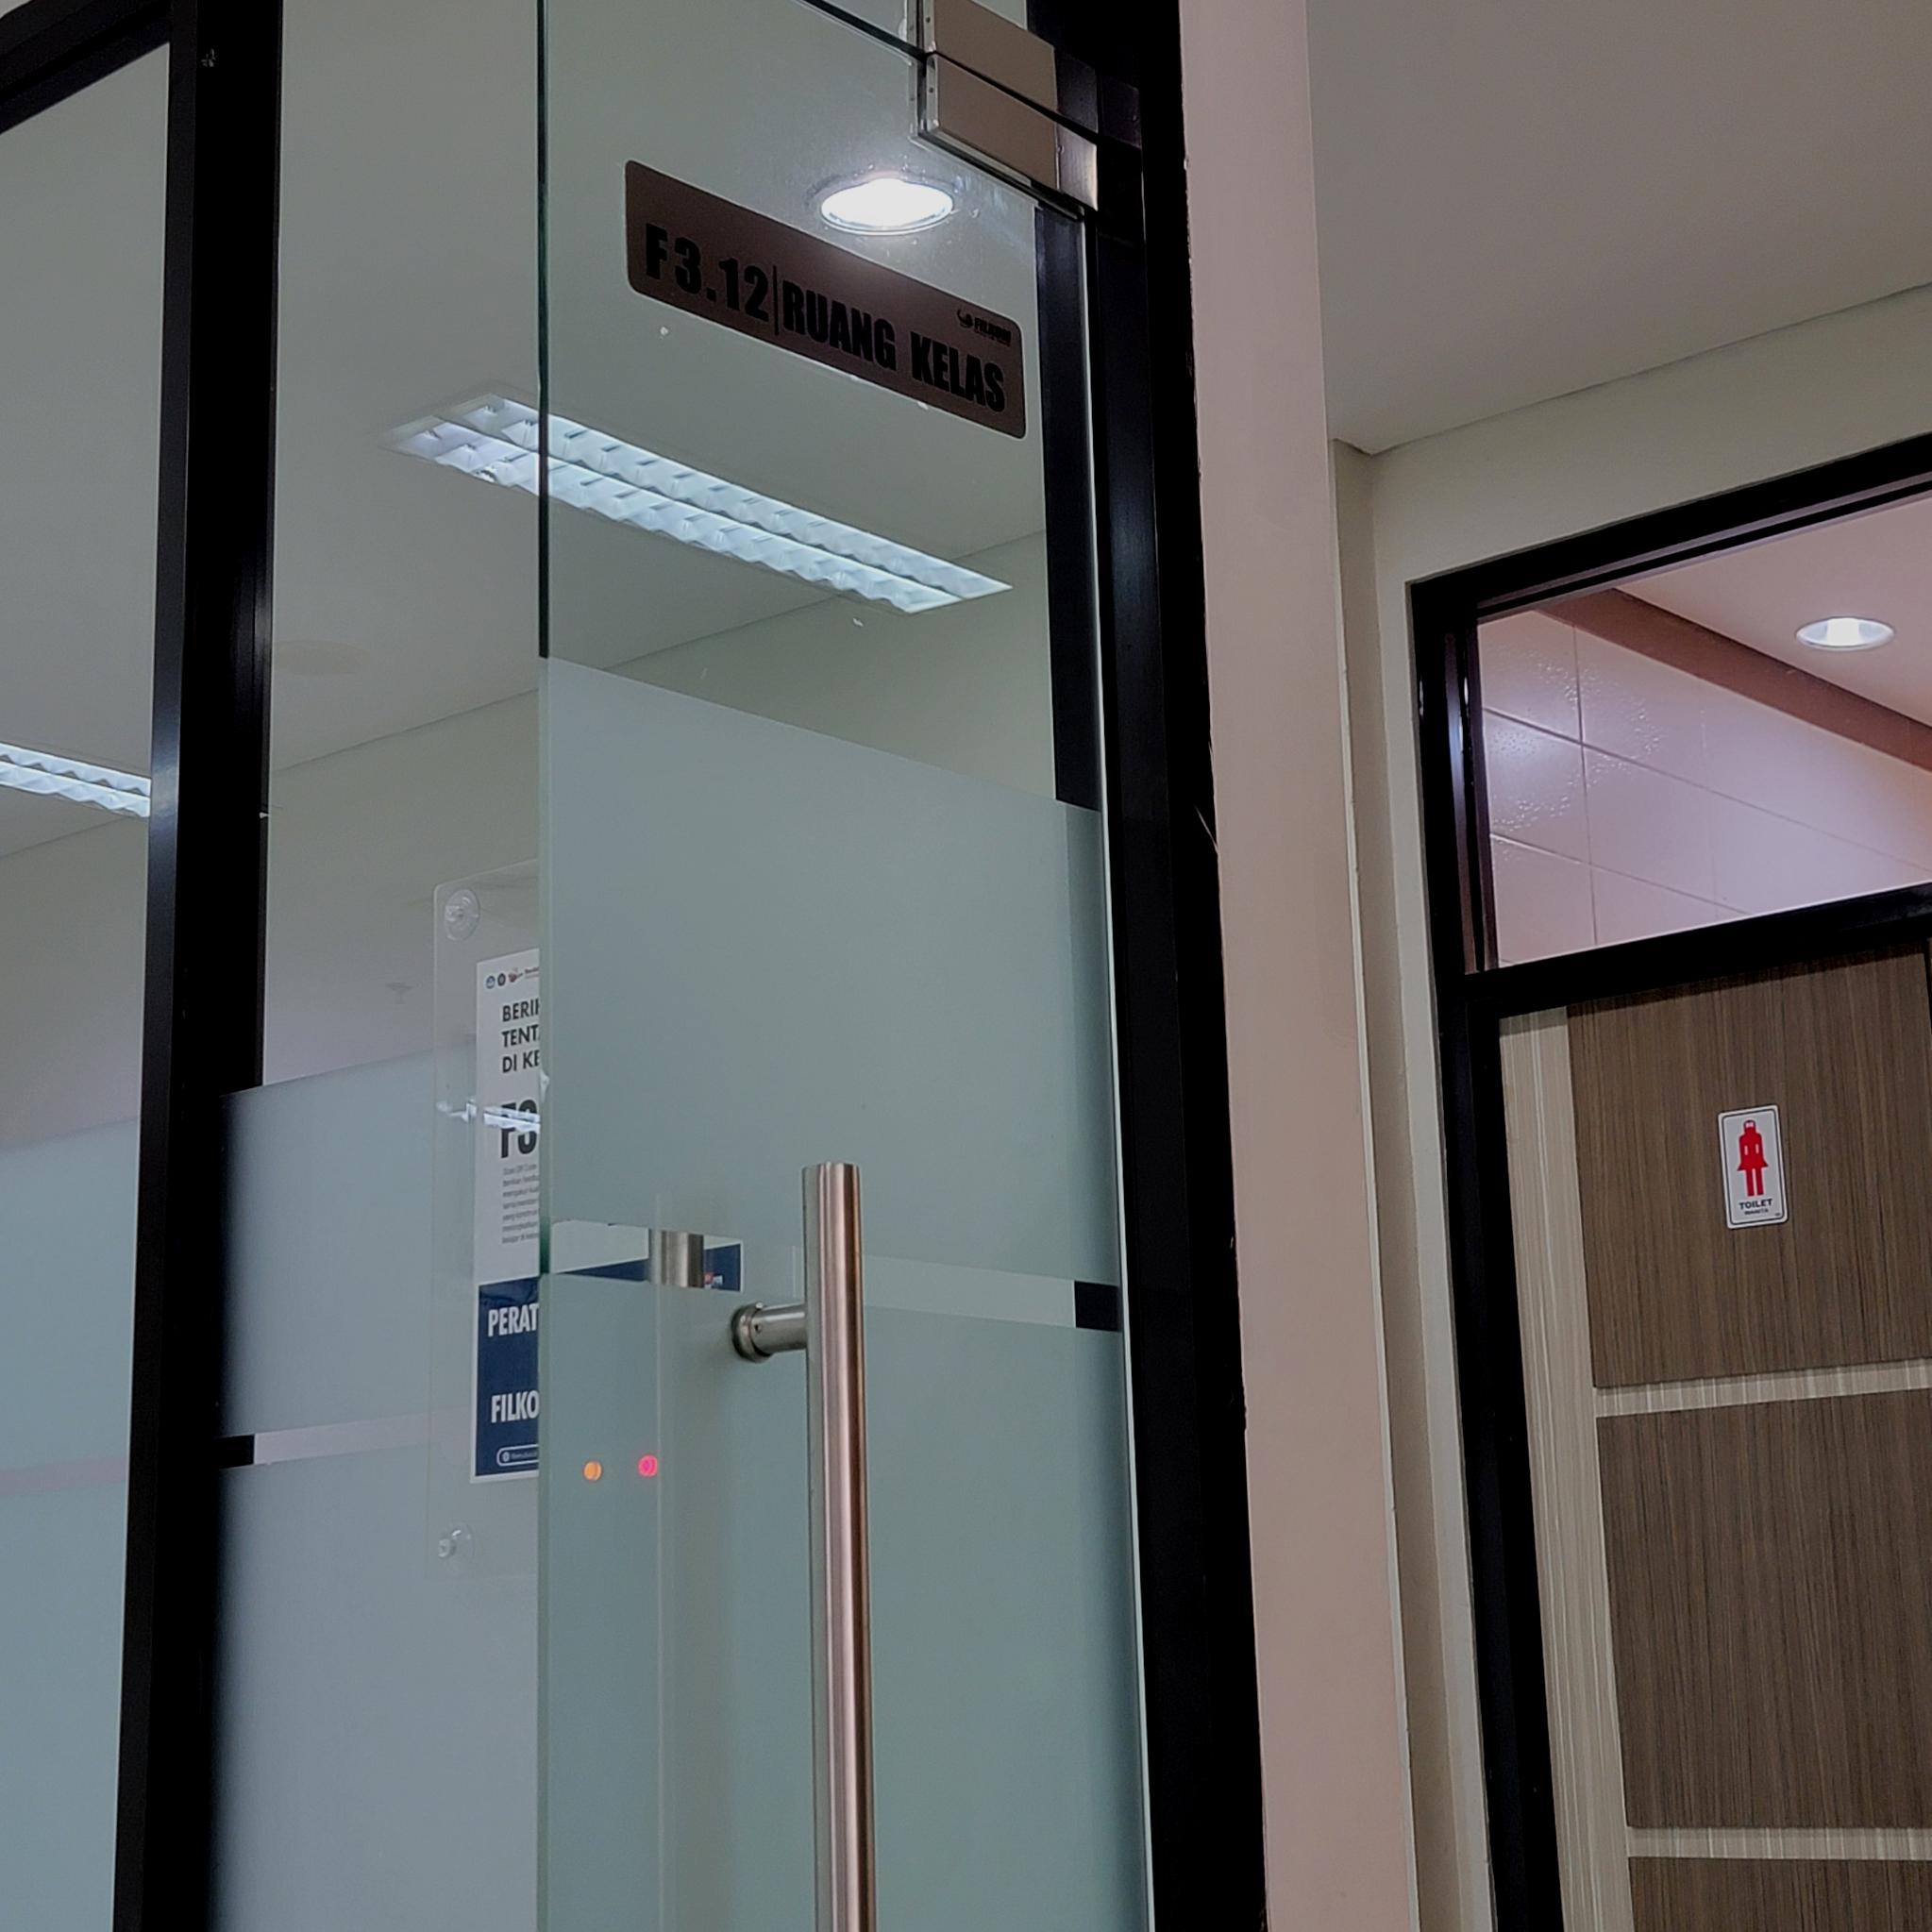plate: (626, 156, 1026, 441)
